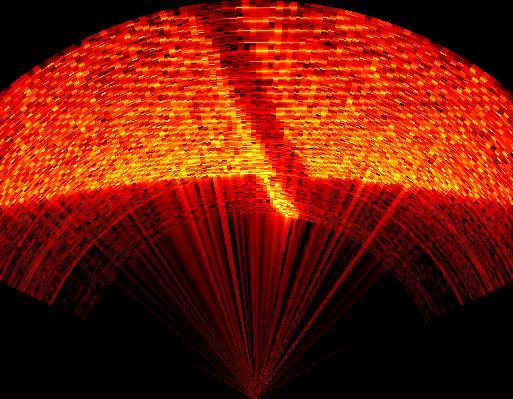pipe: (189, 1, 321, 222)
